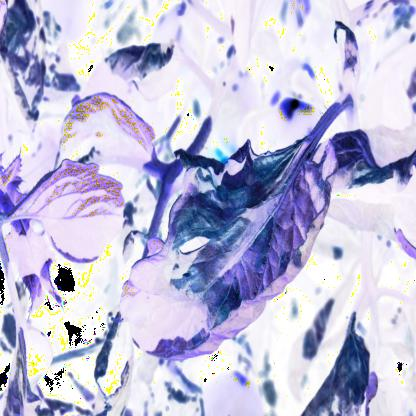tomato leaf late blight: (125, 134, 326, 379)
